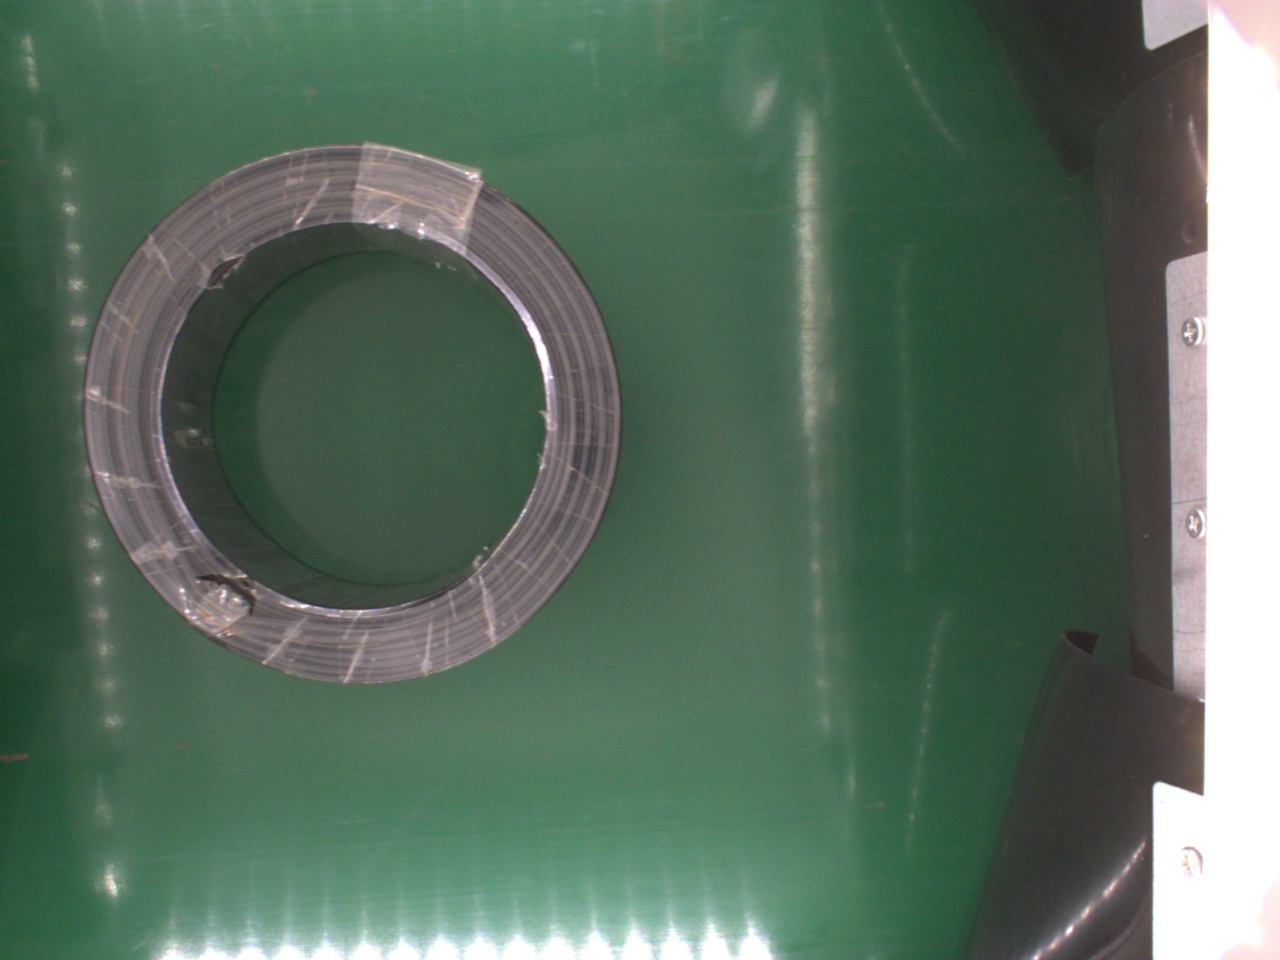black: (80, 140, 621, 682)
